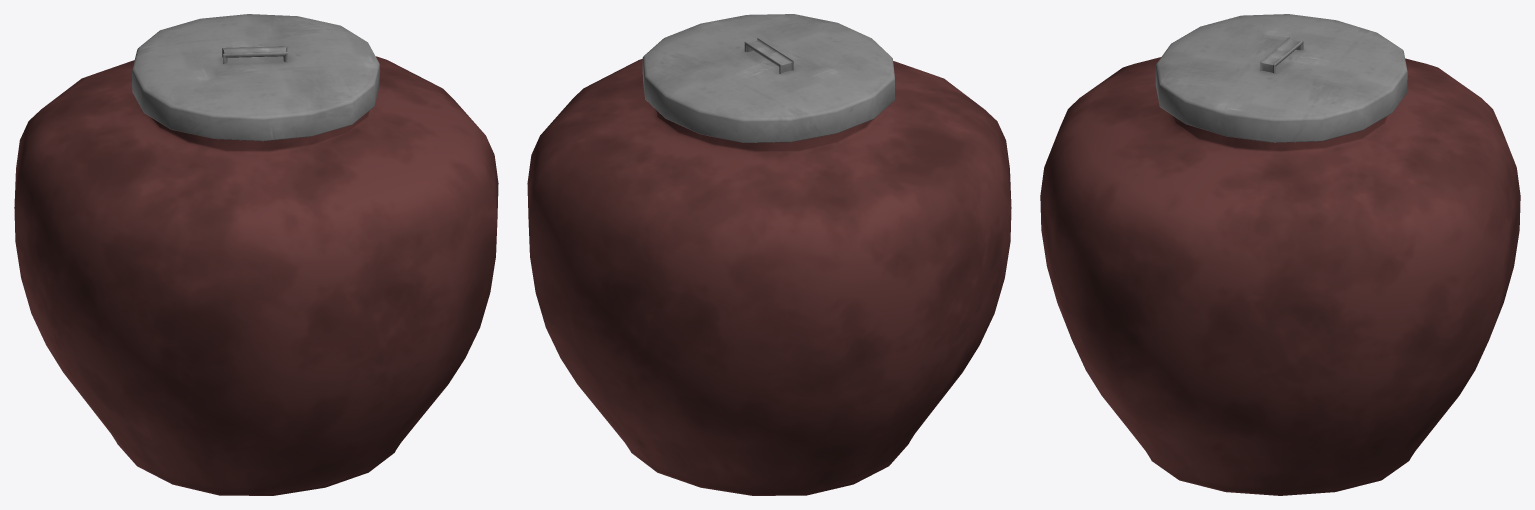
The model's file is prop3.glb.
3 views of the same model, side by side, from view 1: azimuth 30°, elevation 25°; view 2: azimuth 150°, elevation 25°; view 3: azimuth 270°, elevation 25° (orthographic).
Parts seen in each view (by area): view 1: Object_143; view 2: Object_143; view 3: Object_143.
Boxes of the visible parts, <box> form: Object_143: <box>14,14,498,495</box>; Object_143: <box>527,14,1011,495</box>; Object_143: <box>1040,14,1520,495</box>.
Bounding box in the file's own units: 1.22 × 1.09 × 1.22.
Materials: 2 (2 with a texture image).
